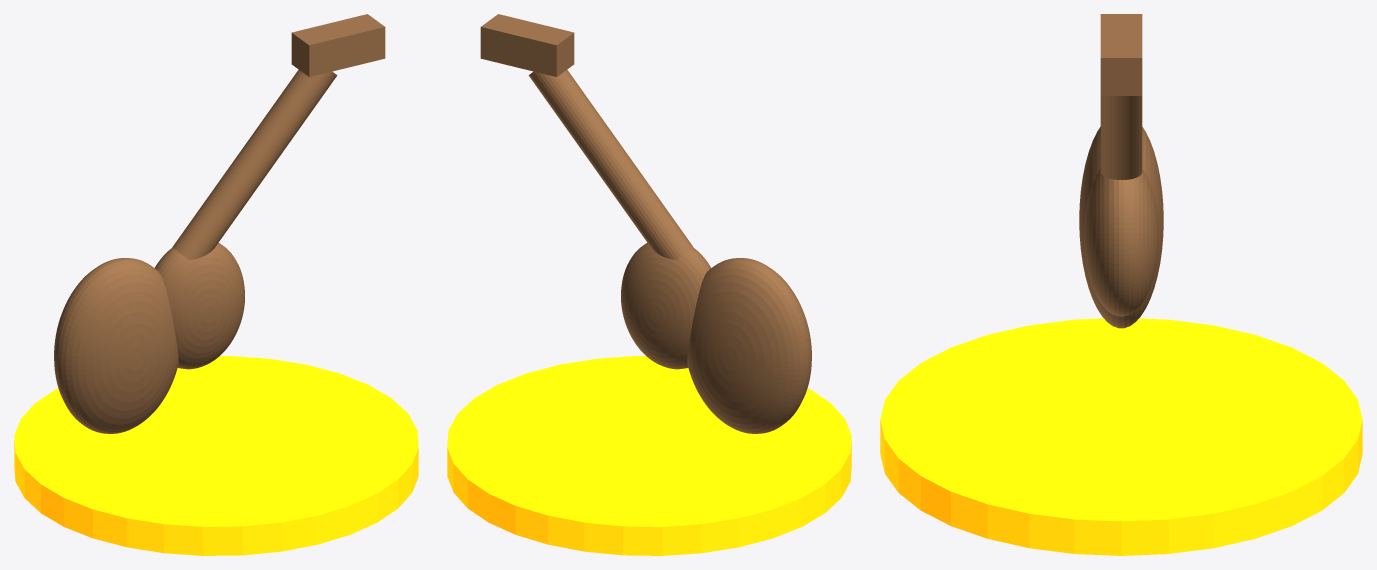
File: spanish_spanish_guitar.glb
3 renders of one model, left to right at view 1: azimuth 30°, elevation 25°; view 2: azimuth 150°, elevation 25°; view 3: azimuth 270°, elevation 25°, orthographic. The views are drawn at different scales.
Parts seen in each view (by area): view 1: 11_03_Popular_Spanish_Spanish_Guitar_ROOT_base, 11_03_Popular_Spanish_Spanish_Guitar_part_01, 11_03_Popular_Spanish_Spanish_Guitar_part_03, 11_03_Popular_Spanish_Spanish_Guitar_part_02, 11_03_Popular_Spanish_Spanish_Guitar_part_04; view 2: 11_03_Popular_Spanish_Spanish_Guitar_ROOT_base, 11_03_Popular_Spanish_Spanish_Guitar_part_01, 11_03_Popular_Spanish_Spanish_Guitar_part_03, 11_03_Popular_Spanish_Spanish_Guitar_part_02, 11_03_Popular_Spanish_Spanish_Guitar_part_04; view 3: 11_03_Popular_Spanish_Spanish_Guitar_ROOT_base, 11_03_Popular_Spanish_Spanish_Guitar_part_02, 11_03_Popular_Spanish_Spanish_Guitar_part_03, 11_03_Popular_Spanish_Spanish_Guitar_part_04, 11_03_Popular_Spanish_Spanish_Guitar_part_01.
Part boxes in pixels (left/top/right/bottom): 11_03_Popular_Spanish_Spanish_Guitar_ROOT_base: left=14, top=356, right=418, bottom=555; 11_03_Popular_Spanish_Spanish_Guitar_part_01: left=54, top=258, right=178, bottom=433; 11_03_Popular_Spanish_Spanish_Guitar_part_03: left=172, top=69, right=337, bottom=259; 11_03_Popular_Spanish_Spanish_Guitar_part_02: left=155, top=242, right=244, bottom=369; 11_03_Popular_Spanish_Spanish_Guitar_part_04: left=291, top=14, right=385, bottom=76; 11_03_Popular_Spanish_Spanish_Guitar_ROOT_base: left=447, top=356, right=851, bottom=555; 11_03_Popular_Spanish_Spanish_Guitar_part_01: left=687, top=258, right=811, bottom=433; 11_03_Popular_Spanish_Spanish_Guitar_part_03: left=528, top=69, right=693, bottom=259; 11_03_Popular_Spanish_Spanish_Guitar_part_02: left=621, top=242, right=710, bottom=369; 11_03_Popular_Spanish_Spanish_Guitar_part_04: left=480, top=14, right=574, bottom=76; 11_03_Popular_Spanish_Spanish_Guitar_ROOT_base: left=880, top=318, right=1362, bottom=555; 11_03_Popular_Spanish_Spanish_Guitar_part_02: left=1084, top=169, right=1158, bottom=316; 11_03_Popular_Spanish_Spanish_Guitar_part_03: left=1100, top=96, right=1142, bottom=179; 11_03_Popular_Spanish_Spanish_Guitar_part_04: left=1100, top=14, right=1142, bottom=95; 11_03_Popular_Spanish_Spanish_Guitar_part_01: left=1079, top=127, right=1163, bottom=328.
Size of the model in its own units: 0.76 by 0.85 by 0.76.
